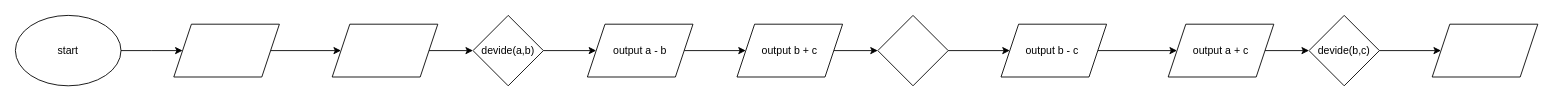
Some shapes in this 1553 by 101 pixel diagram are drawn without their labels. Here are the shapes that lost their labels. From the top down, the centre of each, then its label:
the point at 226,50: input a,b,c
the point at 384,50: output a + b
the point at 912,50: devide(a,c)
the point at 1484,50: output a - c
